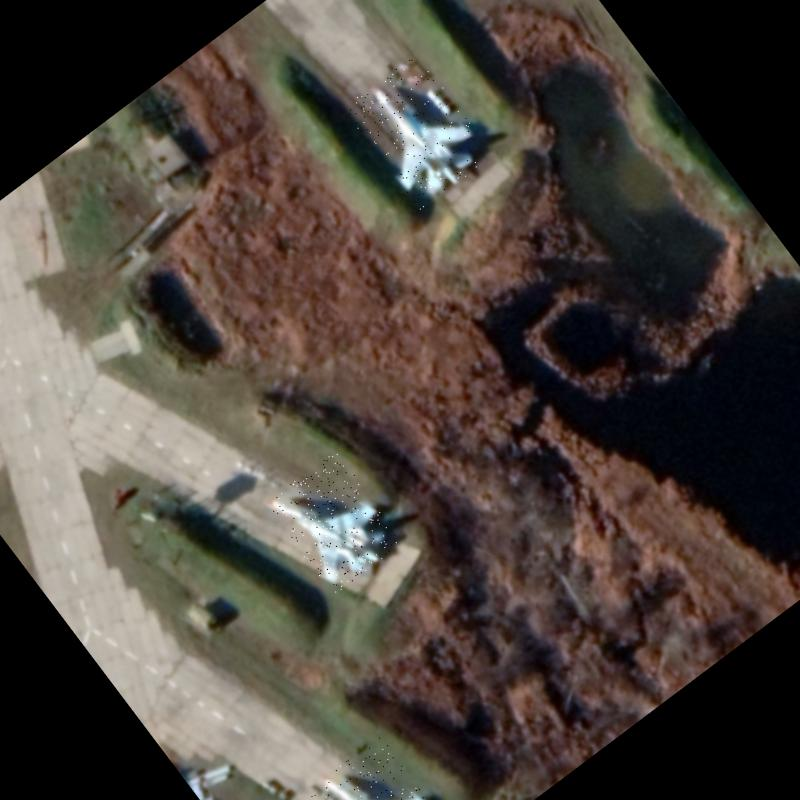A1: (342, 51, 496, 212), (264, 449, 405, 596), (307, 734, 454, 800)
